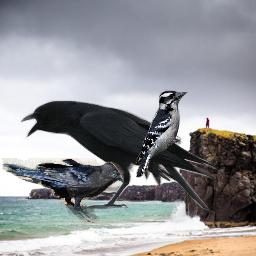Crow: (20, 100, 219, 211), (2, 158, 124, 223)
Woodpecker: (135, 89, 188, 178)
